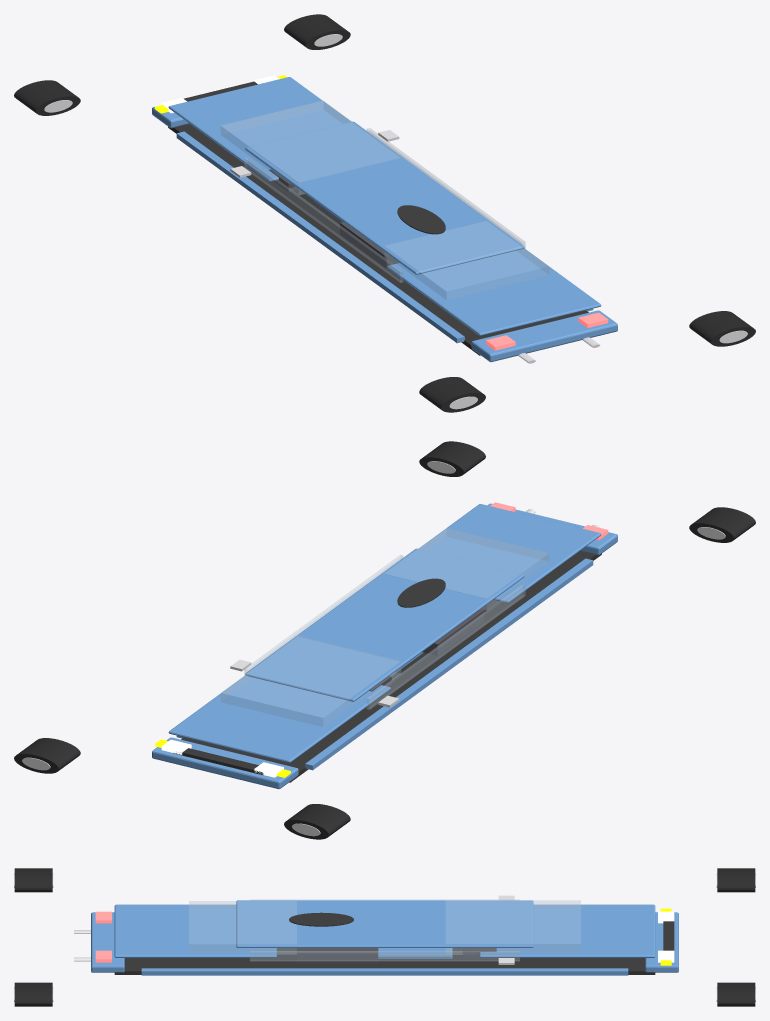
File: blender.glb
3 views of the same model, one above another, from view 1: azimuth 30°, elevation 25°; view 2: azimuth 150°, elevation 25°; view 3: azimuth 270°, elevation 25° (orthographic). The views are drawn at different scales.
Parts seen in each view (by area): view 1: Roof, Trunk, Glass, Hood, RearGlass, Chassis, Skirt_L, Bumper_R, SideGlass_L, Wheel_FR, Wheel_FL, Wheel_RR (+4 smaller); view 2: Roof, Hood, Glass, Trunk, RearGlass, Chassis, Skirt_L, Bumper_F, SideGlass_L, Wheel_RR, Wheel_RL, Wheel_FR (+6 smaller); view 3: Roof, Hood, Trunk, Glass, Chassis, RearGlass, Skirt_R, SideGlass_R, Seat_R, Bumper_R, Wheel_FL, Wheel_FR (+8 smaller).
Part boxes in pixels (box(x1,y1,x2,y2)): Roof: box(245, 121, 524, 274); Trunk: box(387, 248, 601, 335); Glass: box(221, 101, 400, 194); Hood: box(168, 77, 351, 181); RearGlass: box(384, 221, 548, 299); Chassis: box(168, 123, 588, 355); Skirt_L: box(176, 131, 464, 343); Bumper_R: box(471, 310, 617, 362); SideGlass_L: box(244, 157, 402, 282); Wheel_FR: box(284, 14, 350, 49); Wheel_FL: box(14, 80, 80, 115); Wheel_RR: box(689, 311, 755, 346); Roof: box(245, 548, 524, 701); Hood: box(168, 675, 390, 762); Glass: box(221, 636, 400, 726); Trunk: box(418, 504, 601, 603); RearGlass: box(384, 528, 548, 609); Chassis: box(181, 550, 601, 782); Skirt_L: box(305, 558, 593, 770); Bumper_F: box(152, 737, 298, 789); SideGlass_L: box(367, 584, 525, 709); Wheel_RR: box(419, 441, 485, 476); Wheel_RL: box(689, 507, 755, 542); Wheel_FR: box(14, 738, 80, 773); Roof: box(236, 900, 533, 947); Hood: box(479, 904, 655, 957); Trunk: box(114, 904, 276, 957); Glass: box(446, 900, 580, 954); Chassis: box(114, 948, 655, 974); RearGlass: box(189, 901, 296, 954); Skirt_R: box(141, 968, 628, 975); SideGlass_R: box(250, 951, 519, 960); Seat_R: box(297, 948, 378, 963); Bumper_R: box(91, 912, 124, 972); Wheel_FL: box(717, 868, 755, 892); Wheel_FR: box(717, 982, 755, 1006).
Bounding box in the file's own units: 9.8 × 1.46 × 23.06.
